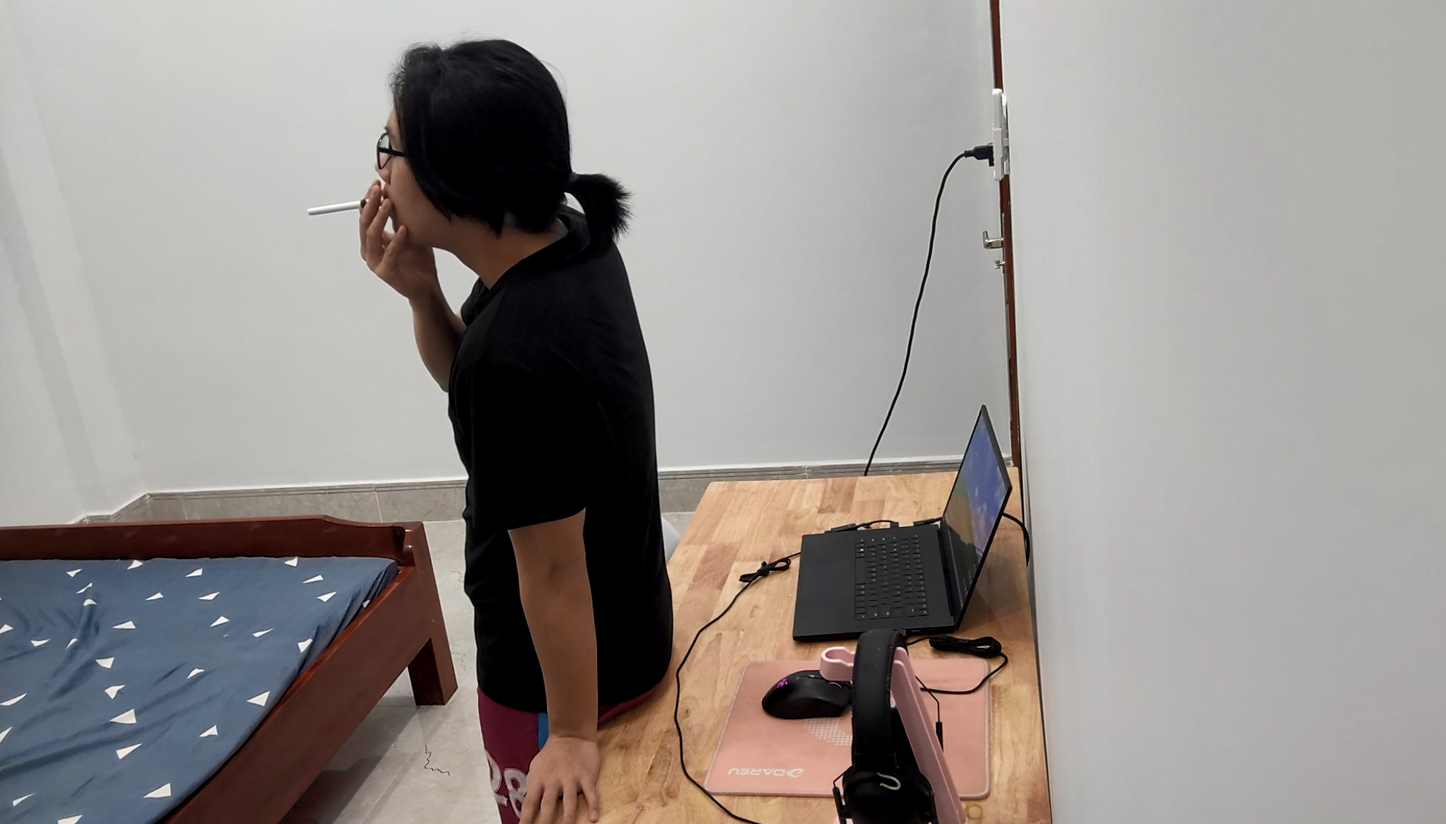cigarette: (300, 194, 380, 224)
person: (336, 0, 686, 824)
